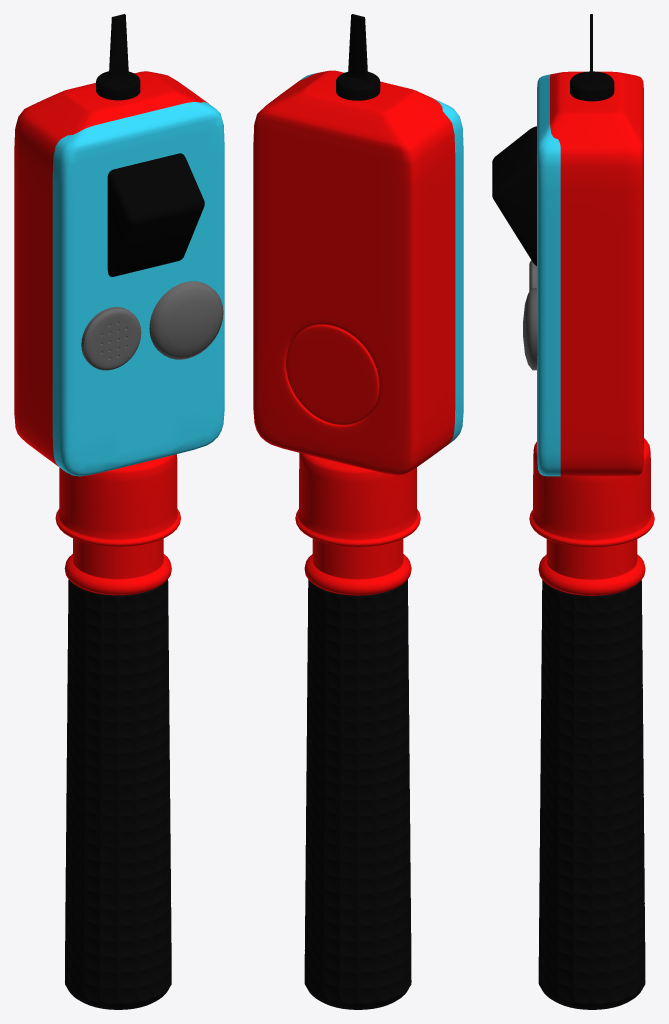
The model's file is 驗電筆.FBX.
3 renders of one model, left to right at view 1: azimuth 30°, elevation 25°; view 2: azimuth 150°, elevation 25°; view 3: azimuth 270°, elevation 25°, orthographic.
Visible parts, largest first — view 1: 驗電筆_本體; view 2: 驗電筆_本體; view 3: 驗電筆_本體.
Part boxes in pixels (<box>): 驗電筆_本體: <box>14,14,224,1009</box>; 驗電筆_本體: <box>253,14,463,1009</box>; 驗電筆_本體: <box>492,14,654,1009</box>.
Size of the model in its own units: 4.95 by 28.25 by 4.26.
